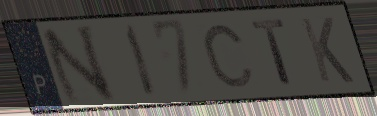7: (147, 16, 196, 102)
C: (200, 22, 257, 90)
I: (121, 22, 161, 100)
K: (297, 15, 358, 86)
N: (37, 22, 119, 107)
T: (248, 17, 296, 89)
